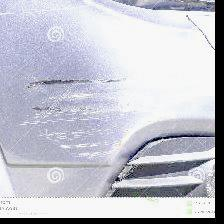bumper_scratch: (15, 72, 215, 168)
